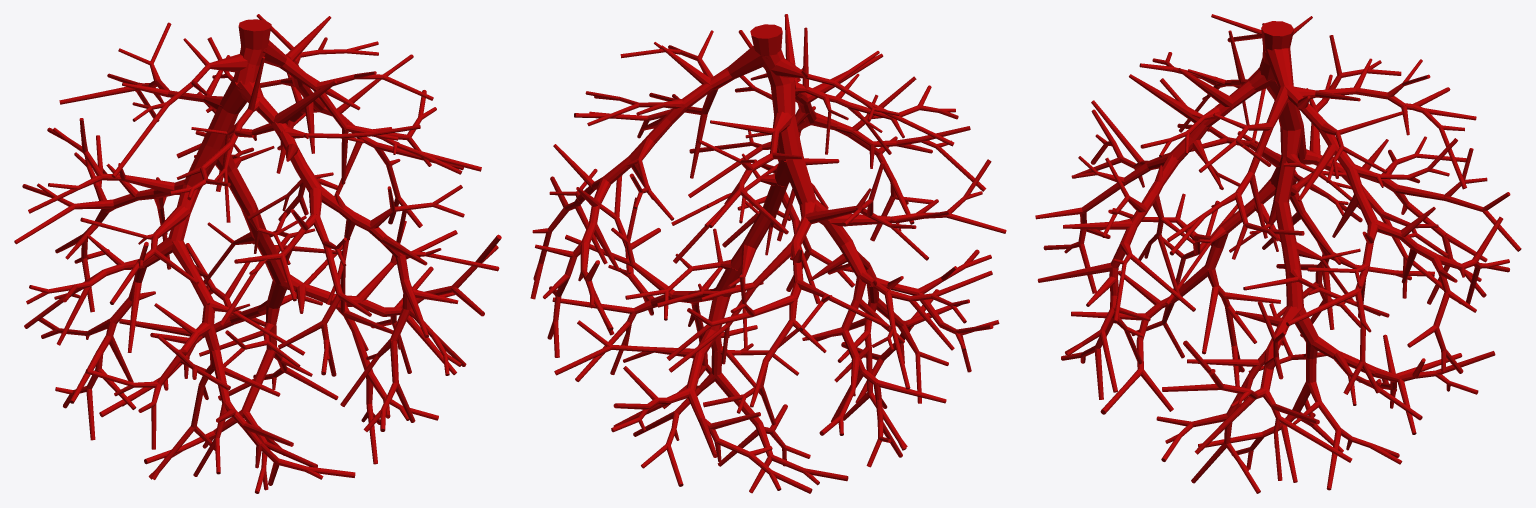
3 views of the same model, side by side, from view 1: azimuth 30°, elevation 25°; view 2: azimuth 150°, elevation 25°; view 3: azimuth 270°, elevation 25° (orthographic). The views are drawn at different scales.
Visible parts, largest first — view 1: Renderer Node; view 2: Renderer Node; view 3: Renderer Node.
Boxes of the visible parts, left/top/right/bottom form: Renderer Node: left=14, top=14, right=501, bottom=493; Renderer Node: left=530, top=14, right=1006, bottom=493; Renderer Node: left=1035, top=14, right=1521, bottom=493.
Bounding box in the file's own units: 33.36 × 33.52 × 33.29.
